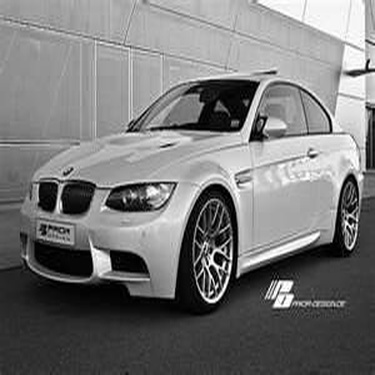car: (15, 62, 367, 317)
